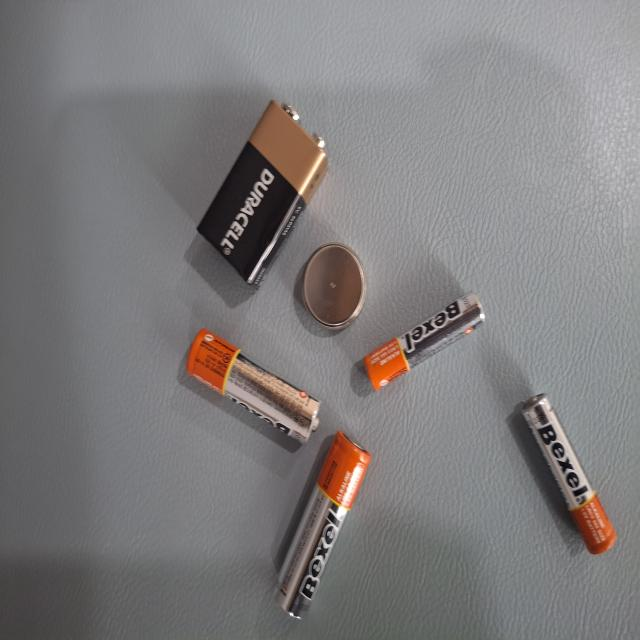9V: (75, 416, 216, 588)
AA: (324, 359, 464, 484), (247, 424, 332, 602)
AAA: (295, 32, 413, 159), (218, 207, 290, 365)
COIN: (182, 364, 248, 452)
